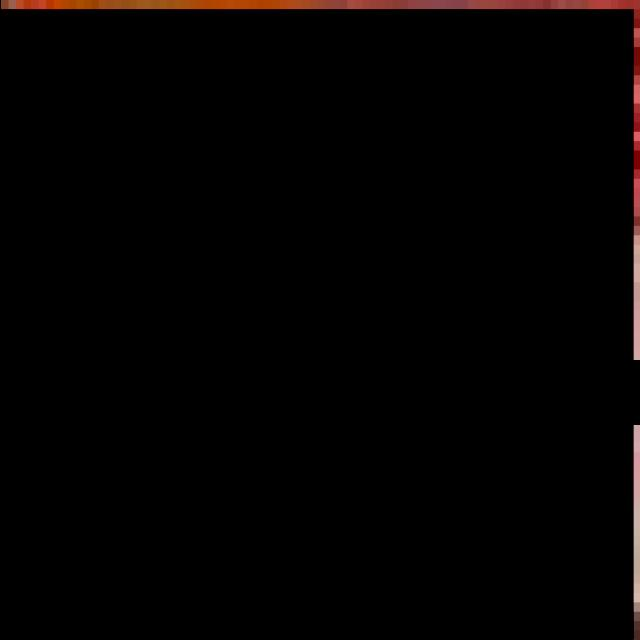fire: (0, 9, 633, 639)
